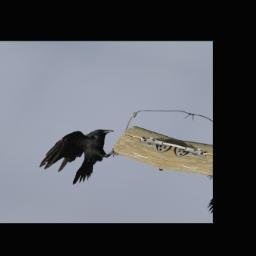Crow: (32, 118, 130, 192)
